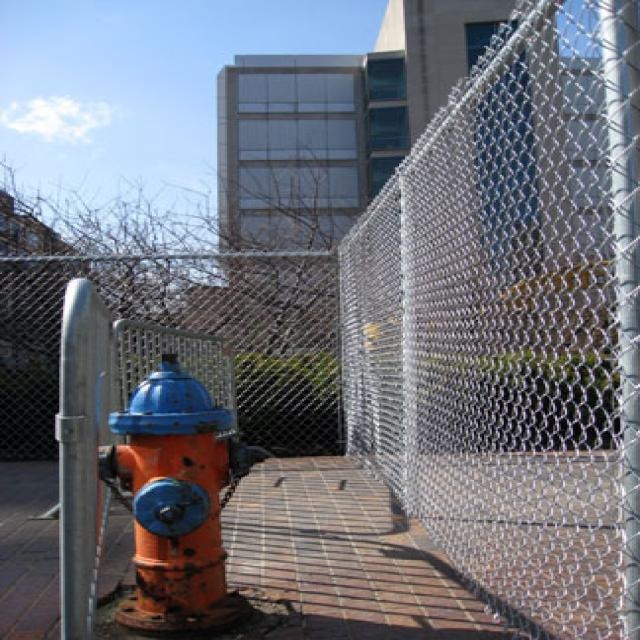fire_hydrant: (101, 351, 241, 625)
